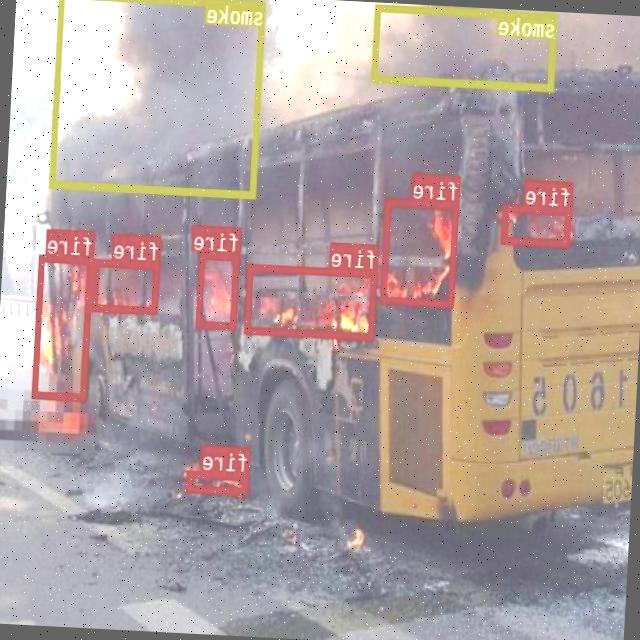fire: (246, 262, 378, 340), (34, 254, 94, 400), (382, 198, 460, 306), (93, 259, 161, 314), (198, 250, 240, 328), (502, 204, 572, 246), (188, 470, 250, 494)
smoke: (50, 0, 267, 198), (372, 4, 558, 90)
